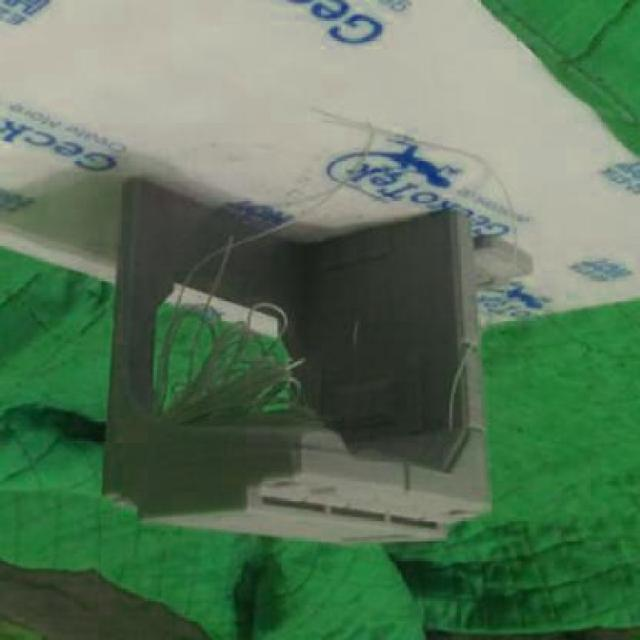spaghetti: (140, 234, 324, 443)
